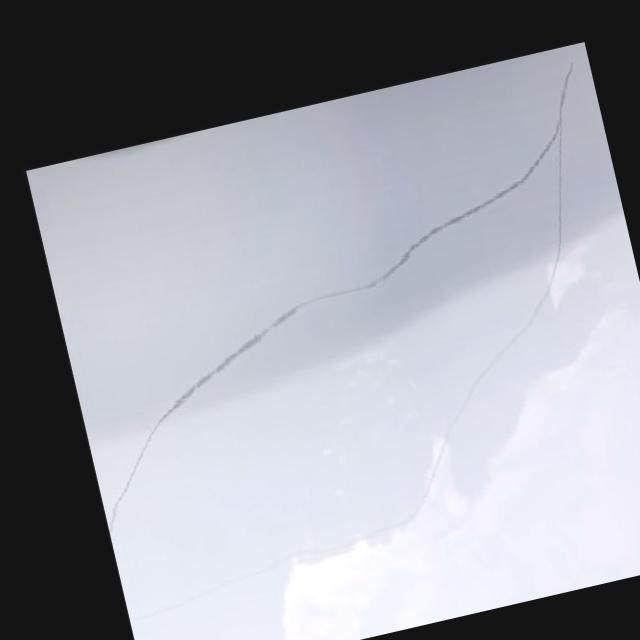crack: (116, 102, 592, 428), (227, 240, 605, 580)
